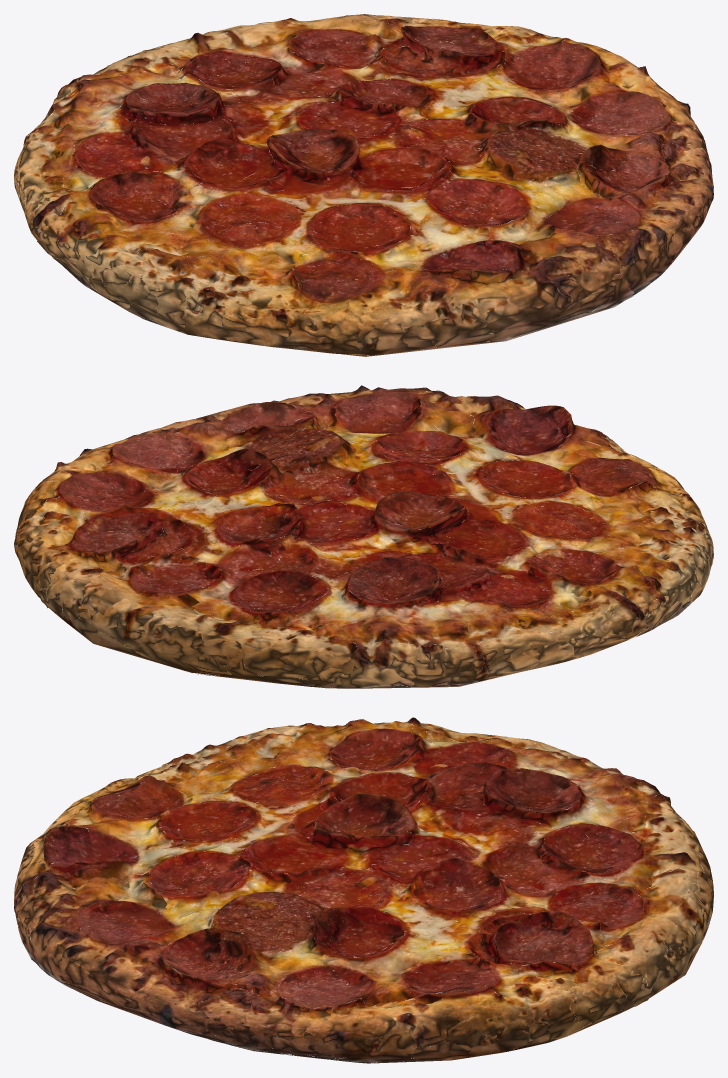
The model's file is pepperoni-transformed.glb.
3 renders of one model, top to bottom at view 1: azimuth 30°, elevation 25°; view 2: azimuth 150°, elevation 25°; view 3: azimuth 270°, elevation 25°, orthographic. The views are drawn at different scales.
Parts seen in each view (by area): view 1: Mesh_0; view 2: Mesh_0; view 3: Mesh_0.
Part boxes in pixels (bbox=[...]): Mesh_0: bbox=[14, 14, 713, 356]; Mesh_0: bbox=[14, 385, 713, 688]; Mesh_0: bbox=[14, 717, 713, 1063].
Size of the model in its own units: 0.2938 by 0.0369 by 0.284.
1 material, 1 textured.
